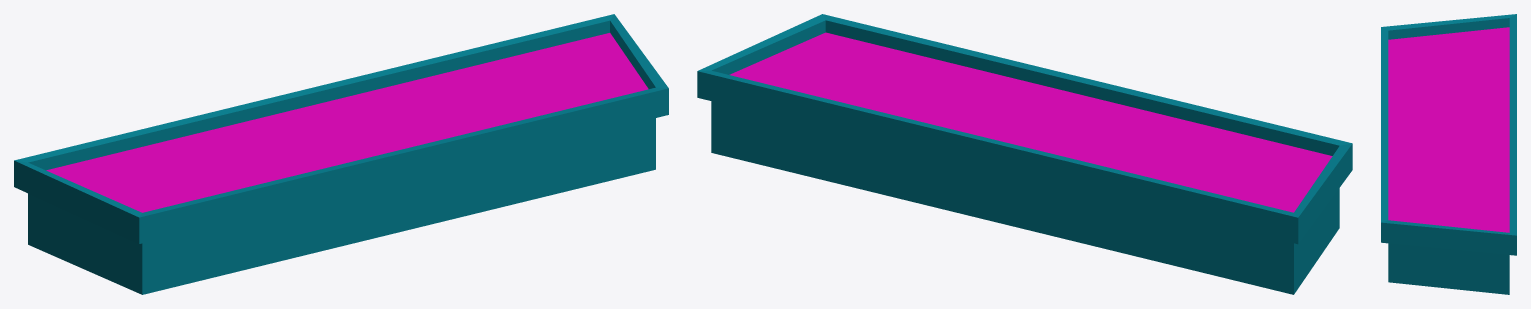
Rendered from angled_planter.fbx.
The picture shows the model from 3 angles, left to right: view 1: azimuth 30°, elevation 25°; view 2: azimuth 150°, elevation 25°; view 3: azimuth 270°, elevation 25°; orthographic projection. The views are drawn at different scales.
Visible parts, largest first — view 1: angled_planter; view 2: angled_planter; view 3: angled_planter.
Part boxes in pixels (x1,y1,x2,y2): angled_planter: (14, 14, 668, 294); angled_planter: (697, 14, 1352, 294); angled_planter: (1381, 14, 1516, 294).
Size of the model in its own units: 433 by 57.13 by 112.
